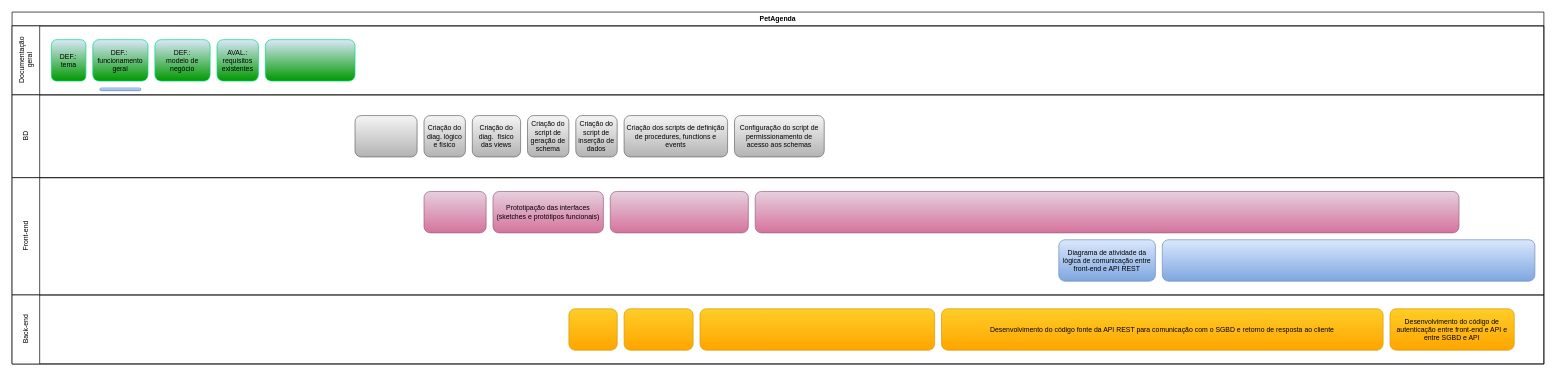
This 1556x376 diagram has some shape labels left out. The centre of each missing label's shape, as x and y in pixels:
"Criação do diagrama ER" goes at [385,136].
"Criação dos diagramas de atividade do servidor de API REST" goes at [658,329].
"Criação e integração da lógica front-end ao HTML" goes at [1348,260].
"Definição das rotas da API REST" goes at [592,329].
"Desenvolvimento das interfaces visuais" goes at [1107,212].
"Desenvolvimento do código fonte da API REST para interpretação das rotas" goes at [817,329].
"Identificação dos componentes visuais (React)" goes at [679,212].
"Levantamento dos novos requisitos" goes at [310,60].
"Protótipo do fluxo de uso (casos de uso)" goes at [454,212].
